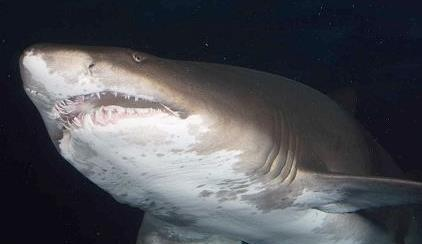fish: (20, 41, 422, 240)
